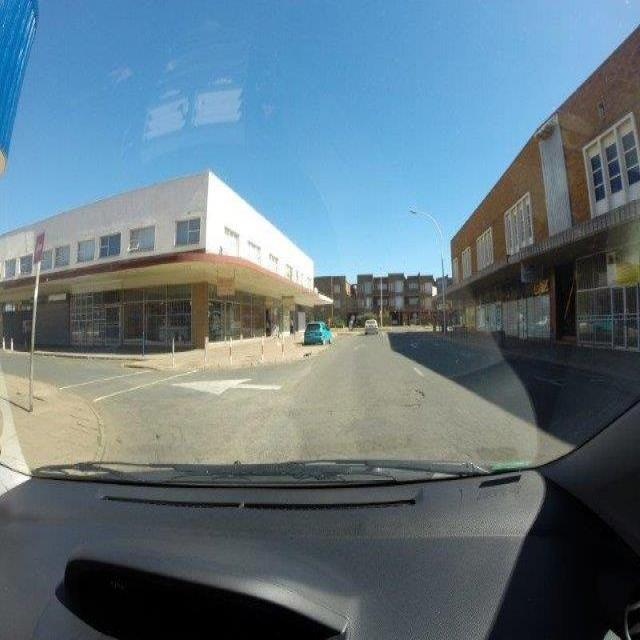lubang: (402, 382, 427, 410)
